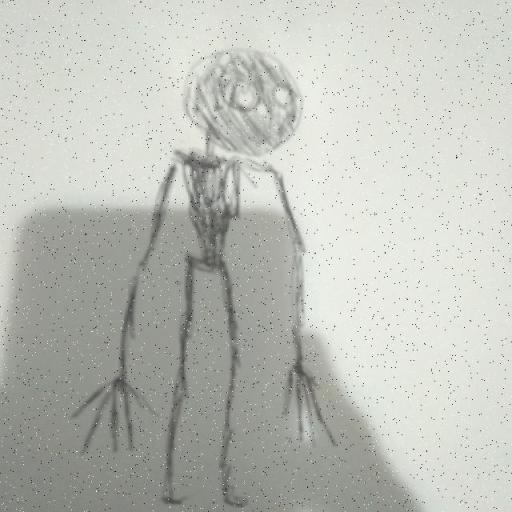person: (67, 44, 339, 512)
